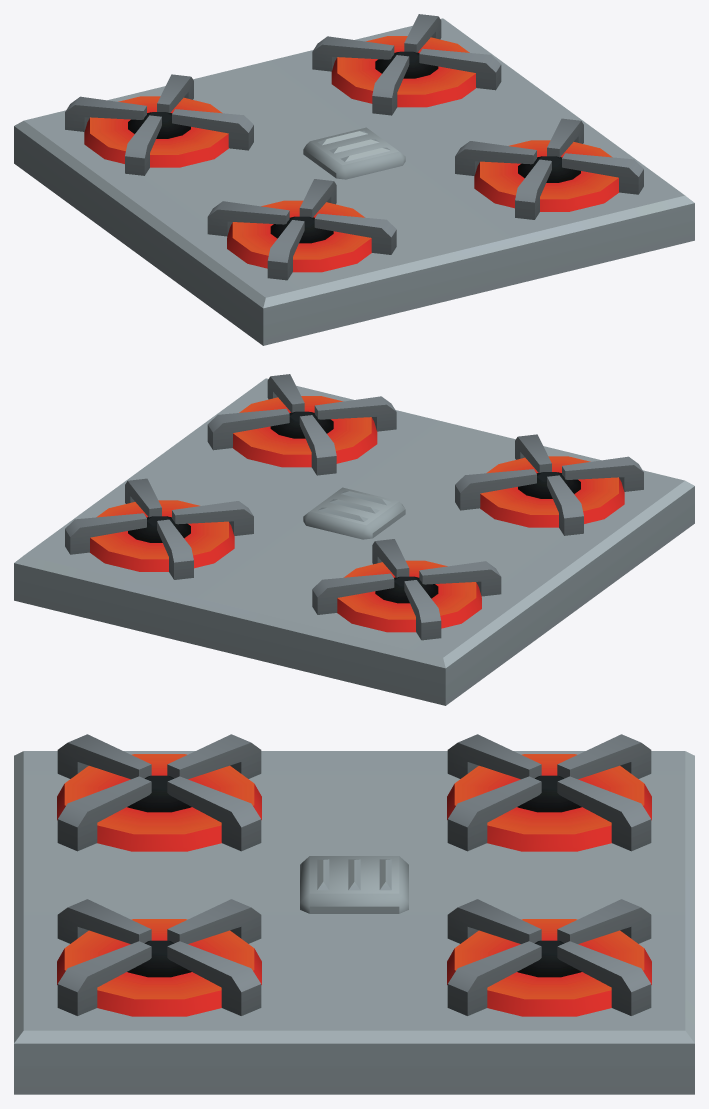
Rendered from kaykit-restaurant-bits-stove-multi-countertop.glb.
The picture shows the model from 3 angles, top to bottom: view 1: azimuth 30°, elevation 25°; view 2: azimuth 150°, elevation 25°; view 3: azimuth 270°, elevation 25°; orthographic projection. The views are drawn at different scales.
Visible parts, largest first — view 1: stove_multi_countertop; view 2: stove_multi_countertop; view 3: stove_multi_countertop.
Part boxes in pixels (bbox=[...]): stove_multi_countertop: bbox=[14, 14, 694, 345]; stove_multi_countertop: bbox=[14, 374, 694, 705]; stove_multi_countertop: bbox=[14, 734, 694, 1094].
Size of the model in its own units: 1.75 by 0.2701 by 1.75.
1 material, 1 textured.
